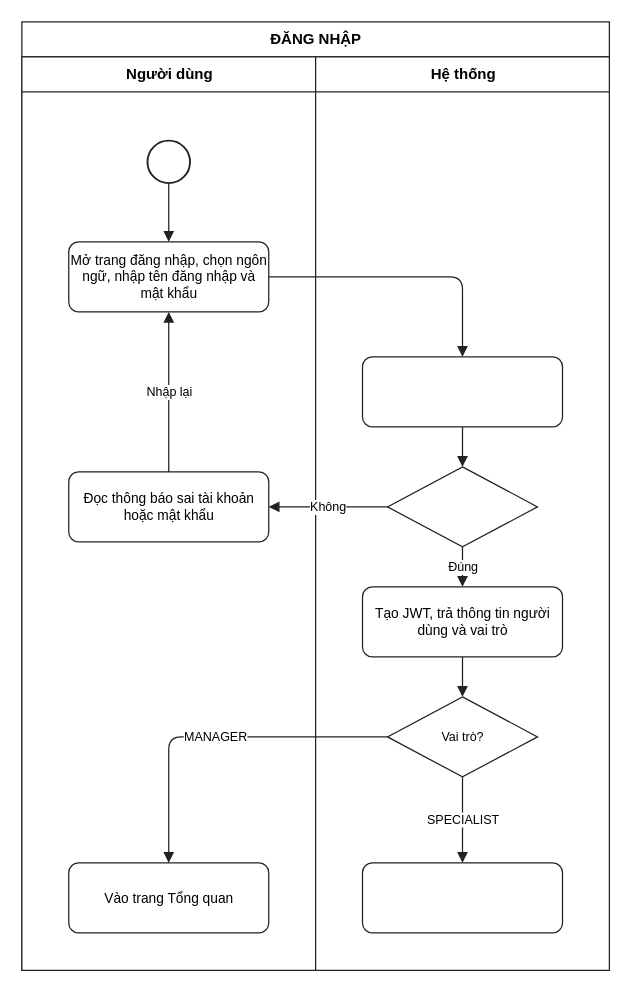
Image size: 631x993. Some labels were removed from this diagram. Here are the shapes that lost their labels. From the top down, the centre of each, then its label:
At point 168,161: "Bắt đầu".
At point 461,391: "Kiểm tra ô trống, gửi POST /auth/login".
At point 462,506: "Đúng tài khoản?".
At point 461,897: "Vào Risk Queue".
